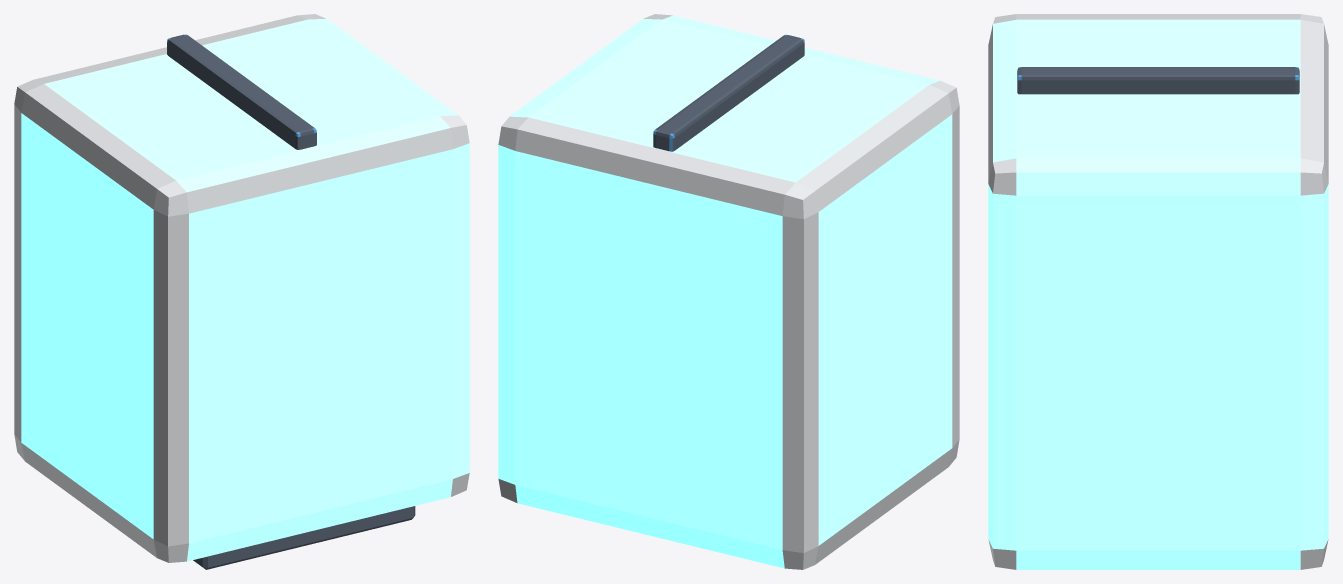
The model's file is helmet__base.glb.
3 renders of one model, left to right at view 1: azimuth 30°, elevation 25°; view 2: azimuth 150°, elevation 25°; view 3: azimuth 270°, elevation 25°, orthographic. The views are drawn at different scales.
Parts seen in each view (by area): view 1: armor_helmet__base_v001; view 2: armor_helmet__base_v001; view 3: armor_helmet__base_v001.
Boxes of the visible parts, x1,y1,x2,y2 form: armor_helmet__base_v001: (14, 14, 469, 569); armor_helmet__base_v001: (498, 14, 959, 569); armor_helmet__base_v001: (988, 14, 1328, 569).
Bounding box in the file's own units: 0.2742 × 0.3496 × 0.2429.
